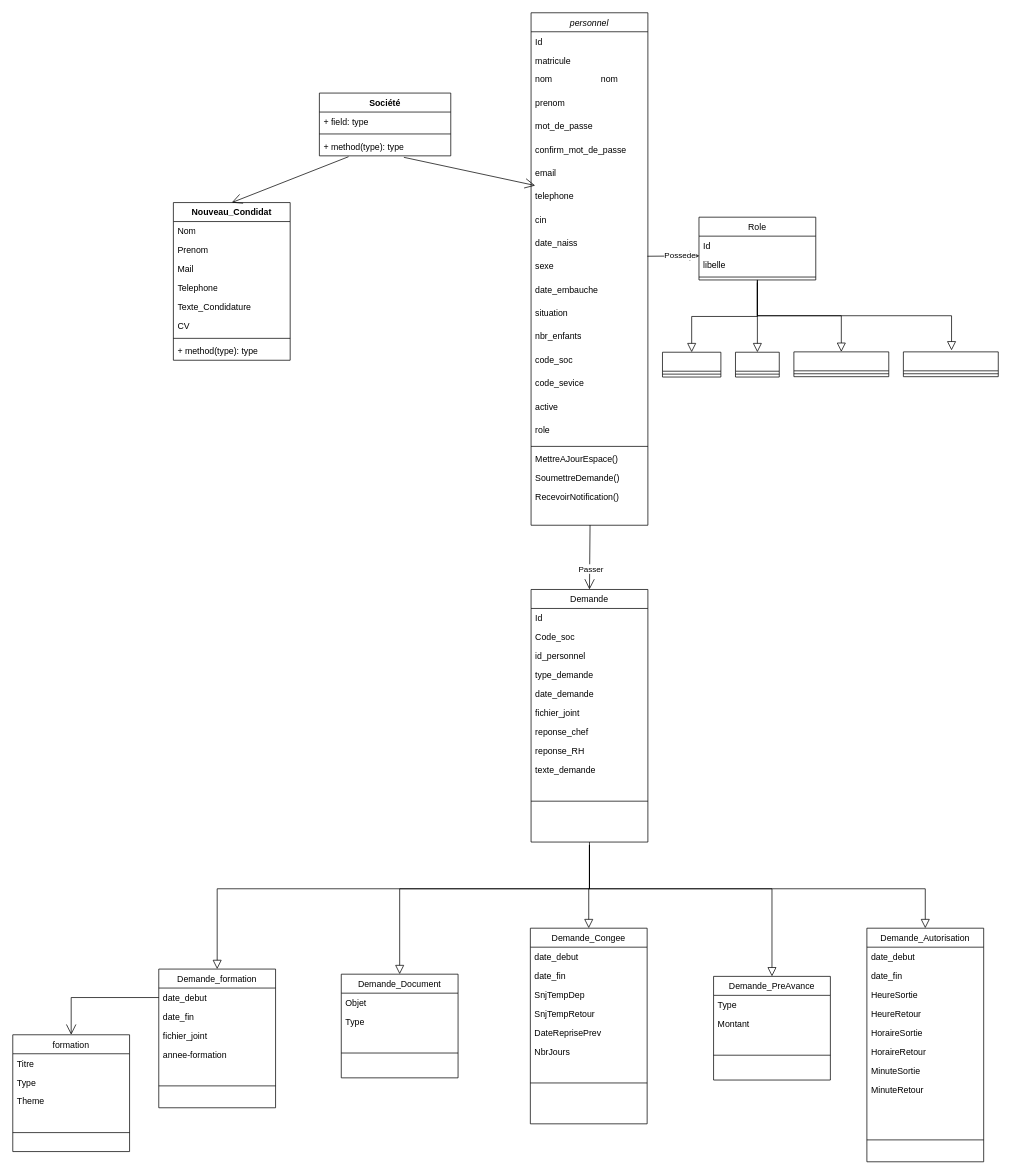
Image size: 1011x1175. Some labels were removed from this diagram. The shapes that lost their labels are listed below. From the top down, each one's centre as x and y in pixels, then its label:
At point 691,364: "Collaborateur".
At point 757,364: "RH".
At point 841,364: "Chef_hiérarchique".
At point 950,364: "Admin".
